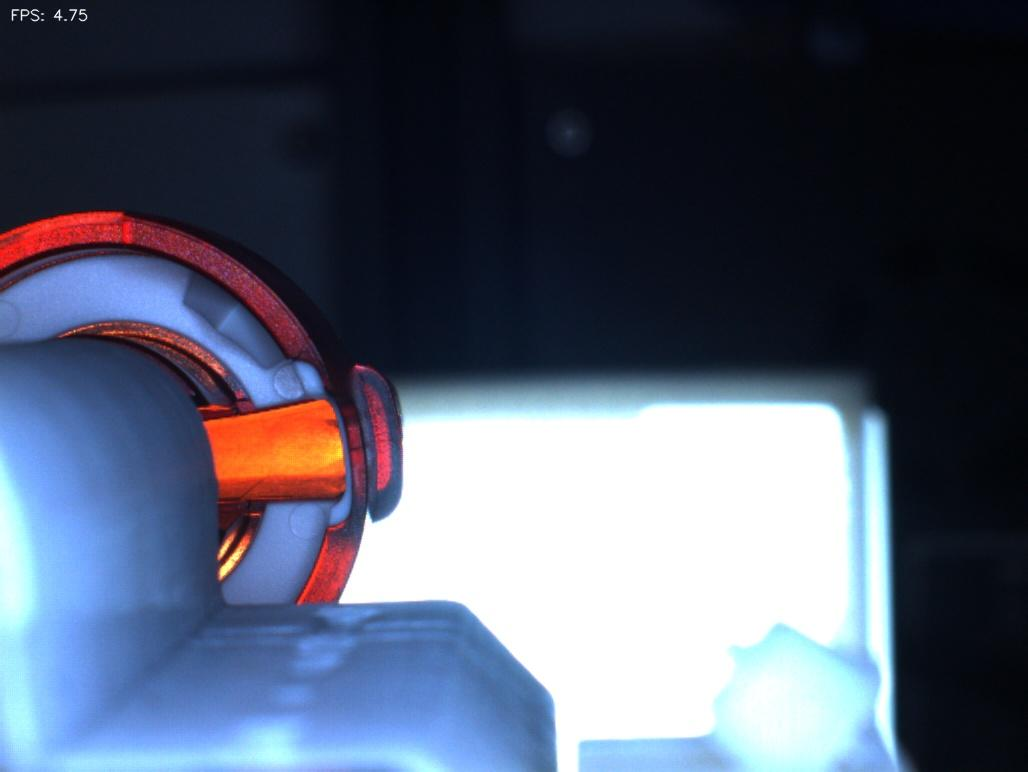Retassure: (259, 409, 347, 482)
